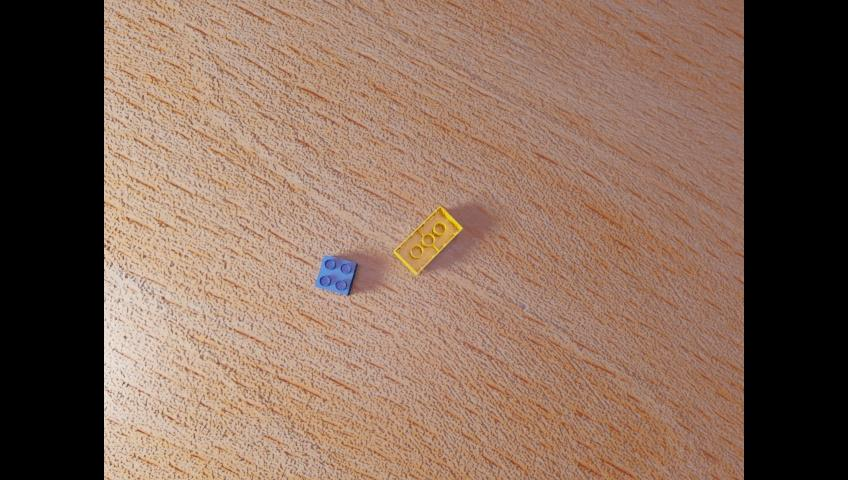2x2_blue: (314, 254, 357, 294)
4x2_yellow: (393, 205, 462, 274)
